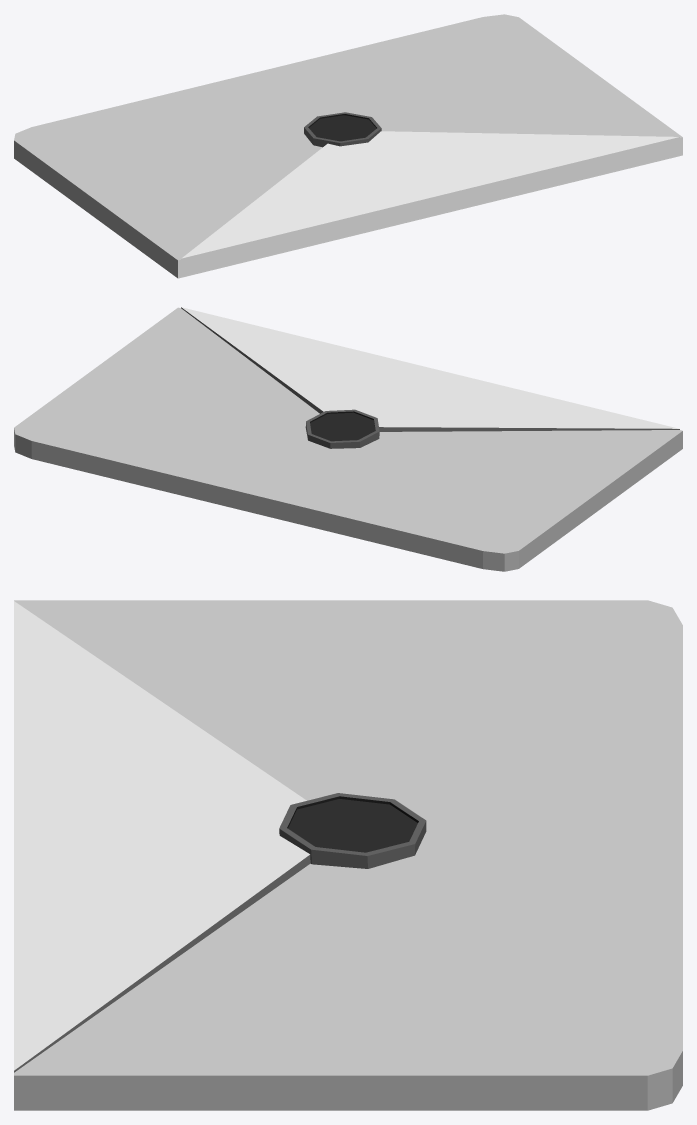
File: InheritanceLetterModel.fbx
3 renders of one model, top to bottom at view 1: azimuth 30°, elevation 25°; view 2: azimuth 150°, elevation 25°; view 3: azimuth 270°, elevation 25°, orthographic. The views are drawn at different scales.
Parts seen in each view (by area): view 1: InheritanceLetterModel; view 2: InheritanceLetterModel; view 3: InheritanceLetterModel.
Boxes of the visible parts, x1,y1,x2,y2 form: InheritanceLetterModel: (14, 14, 682, 278); InheritanceLetterModel: (14, 307, 682, 571); InheritanceLetterModel: (14, 600, 682, 1110).
Size of the model in its own units: 46.26 by 2.35 by 27.5.
